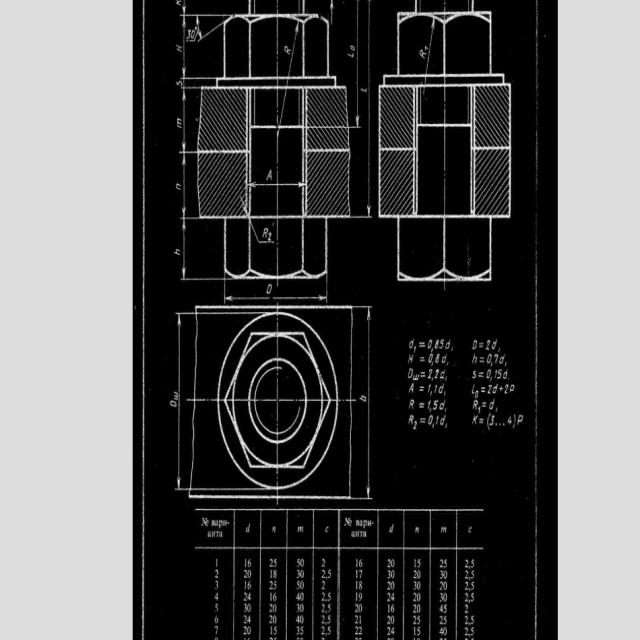marking_line: (365, 3, 374, 216), (176, 315, 183, 489), (367, 307, 372, 496), (228, 293, 325, 302), (354, 0, 359, 126), (250, 179, 306, 189), (181, 91, 188, 152), (181, 154, 187, 215), (180, 17, 186, 75), (182, 219, 187, 279)
numeric: (320, 568, 333, 580), (464, 592, 475, 604), (321, 624, 331, 637), (463, 559, 476, 569), (321, 603, 332, 614), (465, 581, 476, 592), (464, 569, 475, 580), (244, 557, 254, 568), (296, 602, 306, 613), (321, 615, 332, 625), (321, 592, 332, 602), (243, 624, 252, 636), (296, 624, 305, 636), (464, 616, 476, 625), (355, 569, 364, 580), (385, 592, 396, 601), (387, 557, 396, 568), (439, 592, 448, 603), (439, 558, 448, 569), (440, 569, 448, 581), (244, 591, 253, 601), (243, 570, 253, 579), (296, 558, 305, 568), (355, 558, 364, 568), (387, 603, 396, 613), (465, 627, 475, 636), (269, 591, 277, 602), (355, 625, 363, 636), (387, 569, 395, 580), (414, 557, 422, 568), (432, 400, 439, 412), (296, 569, 305, 578), (413, 616, 422, 625), (413, 593, 422, 602), (413, 570, 422, 579), (243, 603, 251, 613), (269, 568, 277, 578), (355, 614, 363, 624), (387, 581, 395, 591), (412, 627, 422, 635), (413, 603, 421, 613), (439, 616, 447, 626), (438, 604, 448, 612), (426, 368, 432, 381), (486, 338, 492, 351), (426, 339, 432, 351), (493, 353, 499, 365), (270, 626, 278, 635), (270, 604, 278, 613), (269, 581, 278, 589), (269, 559, 277, 568), (297, 580, 305, 589), (296, 616, 305, 624), (355, 604, 363, 613), (355, 592, 363, 601), (439, 627, 447, 636), (439, 582, 448, 590), (490, 413, 495, 427), (244, 581, 251, 591), (269, 614, 276, 624), (297, 592, 304, 602), (388, 616, 395, 626), (414, 580, 421, 590), (439, 339, 445, 350), (486, 353, 492, 364), (498, 367, 503, 380), (356, 581, 363, 590), (427, 415, 433, 425), (435, 353, 440, 365), (507, 415, 513, 425), (243, 615, 250, 623), (387, 627, 394, 635), (427, 353, 432, 364), (434, 369, 439, 380), (321, 557, 326, 568), (436, 414, 440, 427), (465, 604, 470, 614), (505, 383, 509, 395), (321, 580, 326, 589), (434, 383, 438, 394), (494, 368, 498, 379), (488, 384, 492, 395), (428, 401, 432, 411), (487, 369, 491, 379), (427, 384, 431, 392), (435, 339, 438, 348)
